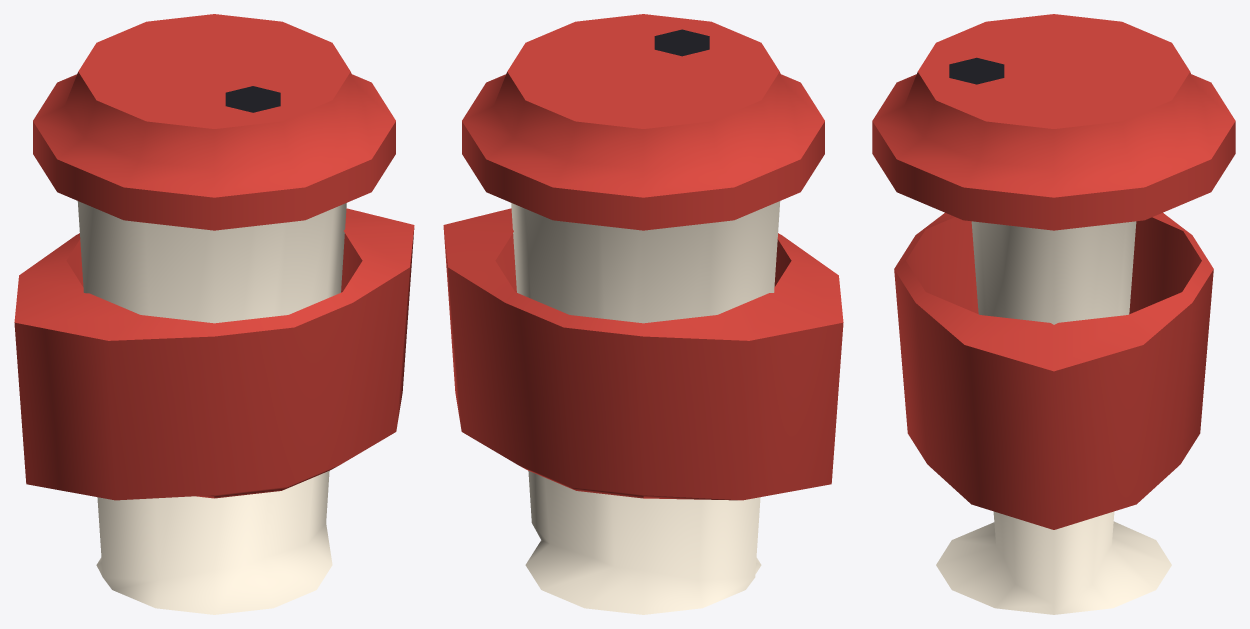
Rendered from Cafe.fbx.
The picture shows the model from 3 angles, left to right: view 1: azimuth 30°, elevation 25°; view 2: azimuth 150°, elevation 25°; view 3: azimuth 270°, elevation 25°; orthographic projection.
Parts seen in each view (by area): view 1: Cafe; view 2: Cafe; view 3: Cafe.
Boxes of the visible parts, x1,y1,x2,y2 form: Cafe: [14, 14, 414, 614]; Cafe: [443, 14, 843, 614]; Cafe: [872, 14, 1235, 614].
Size of the model in its own units: 0.5086 by 0.6 by 0.4.
Materials: 1 (1 with a texture image).
